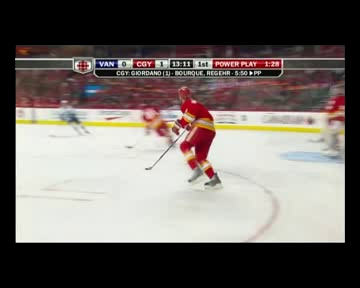normal: (158, 84, 236, 192)
